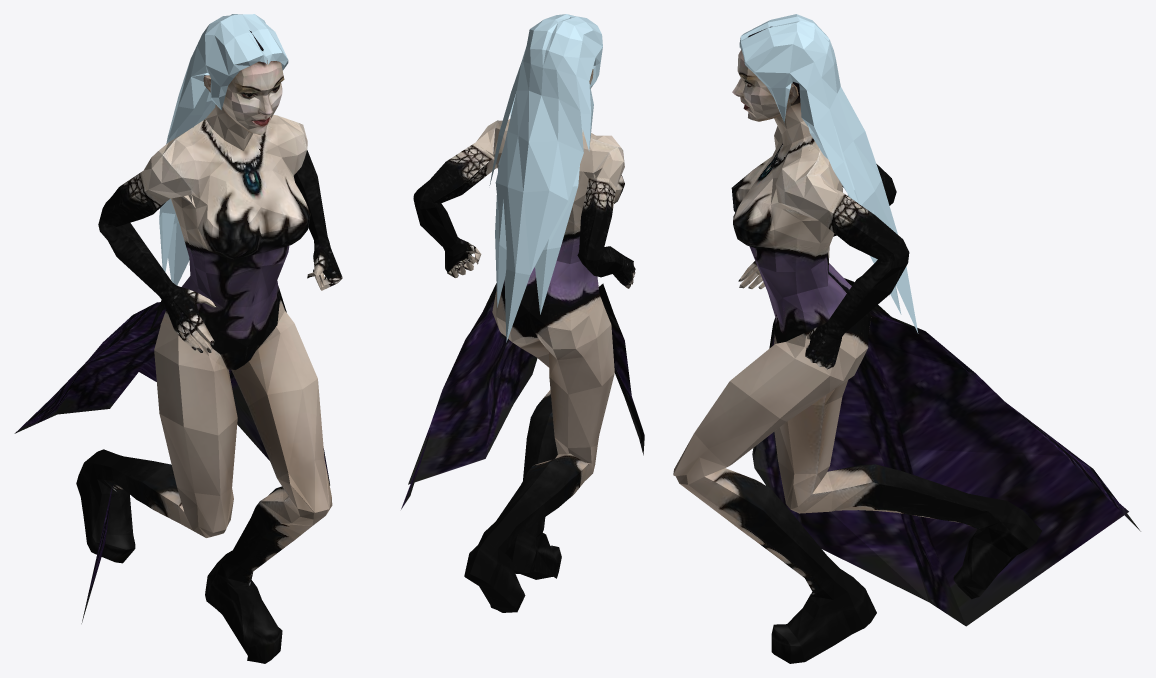
The model's file is running_009.obj.
3 views of the same model, side by side, from view 1: azimuth 30°, elevation 25°; view 2: azimuth 150°, elevation 25°; view 3: azimuth 270°, elevation 25° (orthographic). The views are drawn at different scales.
Visible parts, largest first — view 1: Plane.001_Plane.007, capelli.001_Plane.006, Plane.003_Plane.008; view 2: Plane.001_Plane.007, capelli.001_Plane.006, Plane.003_Plane.008; view 3: Plane.001_Plane.007, Plane.003_Plane.008, capelli.001_Plane.006.
Part boxes in pixels (x1=…): Plane.001_Plane.007: x1=76, y1=30, x2=342, y2=663; capelli.001_Plane.006: x1=159, y1=14, x2=288, y2=285; Plane.003_Plane.008: x1=14, y1=286, x2=329, y2=623; Plane.001_Plane.007: x1=413, y1=17, x2=635, y2=612; capelli.001_Plane.006: x1=489, y1=14, x2=602, y2=342; Plane.003_Plane.008: x1=401, y1=283, x2=644, y2=509; Plane.001_Plane.007: x1=673, y1=26, x2=1041, y2=663; Plane.003_Plane.008: x1=752, y1=278, x2=1140, y2=626; capelli.001_Plane.006: x1=739, y1=14, x2=918, y2=333.
Size of the model in its own units: 1.72 by 5.04 by 3.34.
